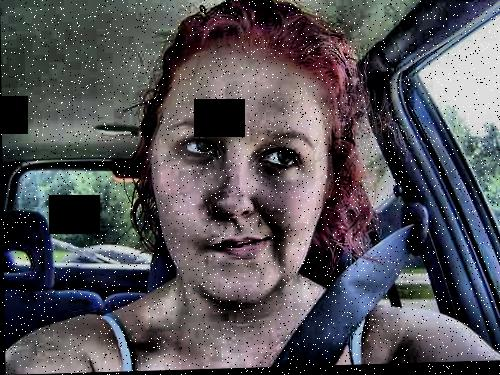seatbelt: (285, 205, 454, 352)
